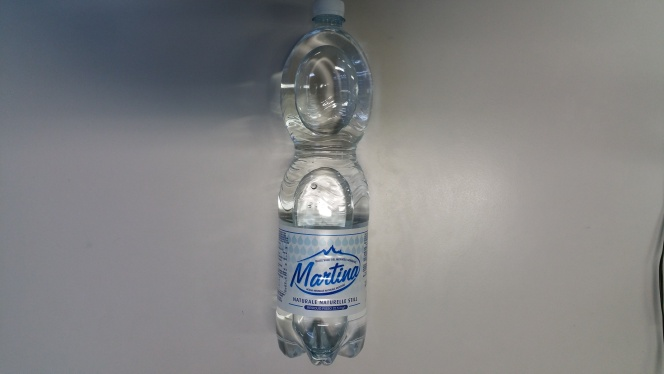bottle: (266, 1, 373, 366)
